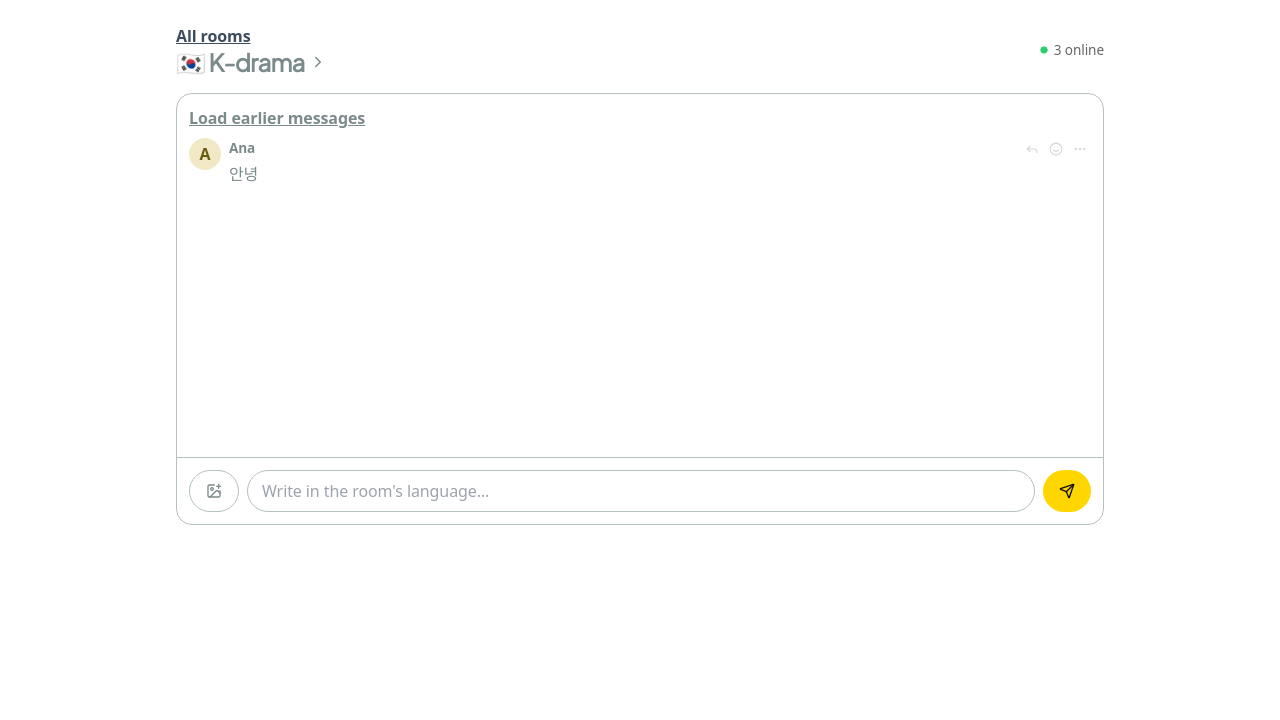
Test: reports a message through the shared report dialog
Click the button with test id "language-room-more-m1".
click(1080, 149)  # box [1069,138,1091,160]
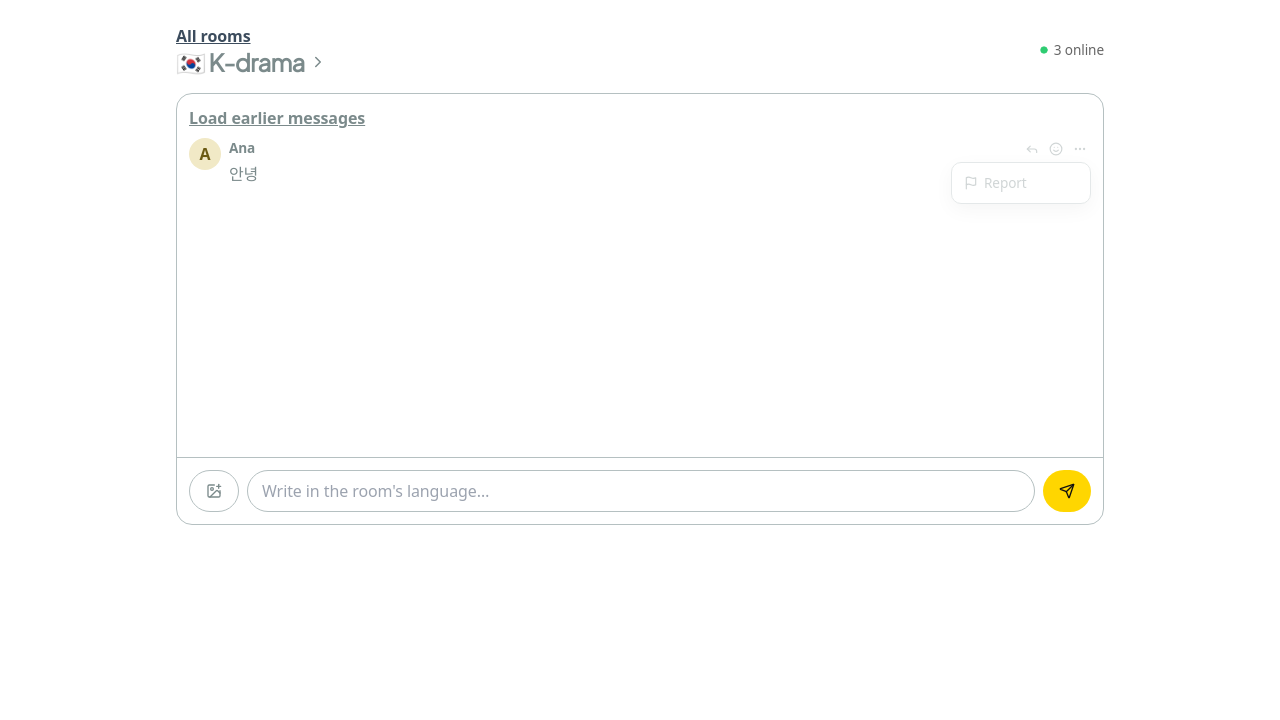
Click the menu item with test id "language-room-report-m1".
click(1021, 183)  # box [956,167,1086,199]
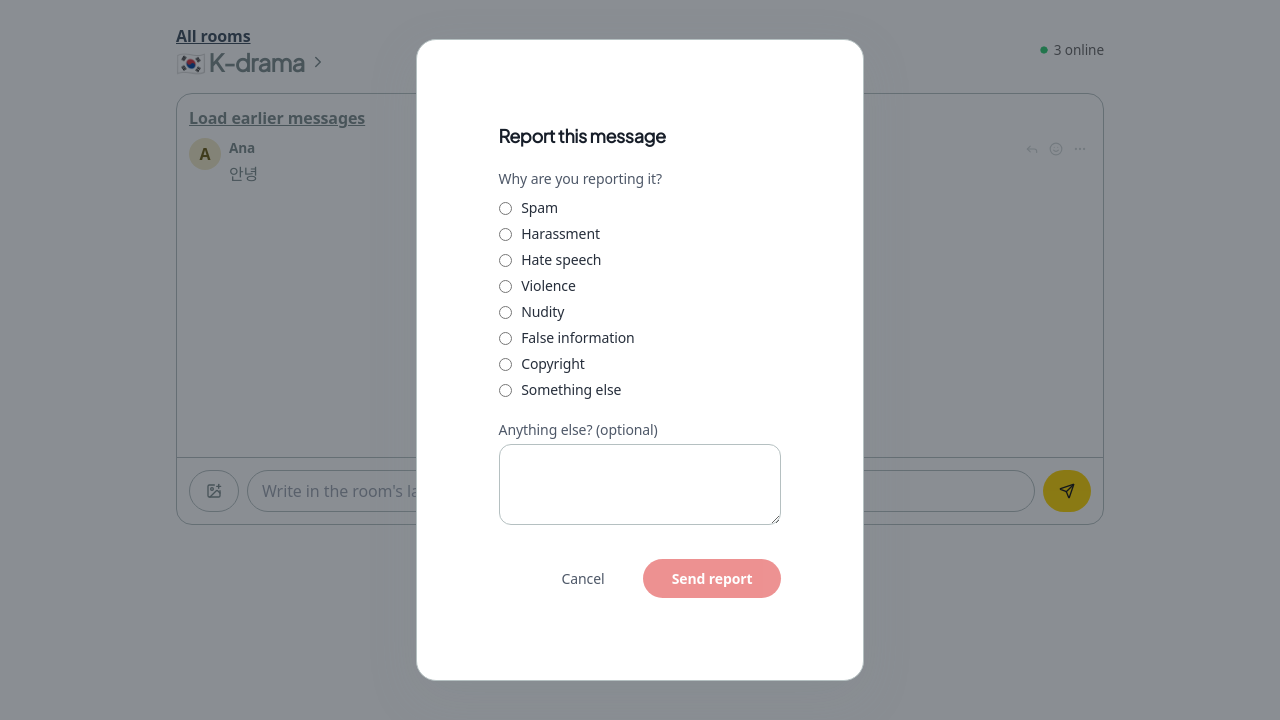
Check: the heading "Report this message" is shown, box [499,124,666,146]
